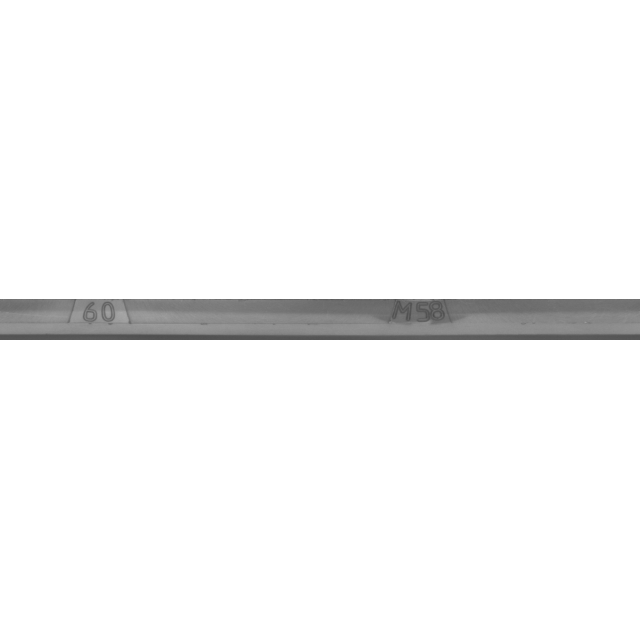mohao: (320, 270, 520, 370)
xuehao: (0, 270, 188, 370)
